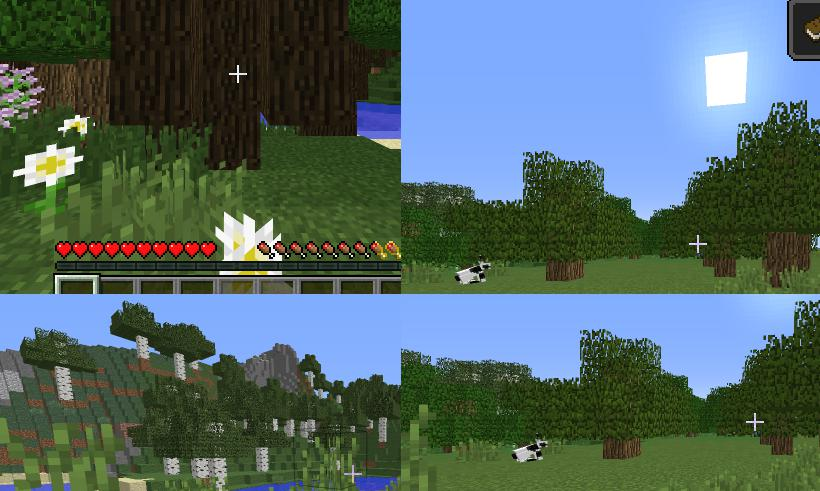minecraft-blocks: (29, 1, 199, 127), (266, 1, 351, 135), (205, 1, 260, 171), (69, 61, 110, 134), (27, 64, 66, 113), (763, 233, 797, 289), (548, 261, 587, 283), (605, 439, 644, 461), (208, 458, 228, 491), (55, 367, 74, 401), (796, 235, 812, 275), (715, 257, 737, 277), (772, 435, 794, 455), (174, 353, 187, 382), (192, 459, 210, 479), (256, 448, 270, 473), (137, 336, 151, 360), (165, 457, 181, 476), (379, 418, 387, 443), (301, 421, 308, 440), (704, 259, 716, 269), (761, 437, 773, 447), (288, 422, 295, 438), (272, 419, 279, 433), (309, 421, 316, 435)
